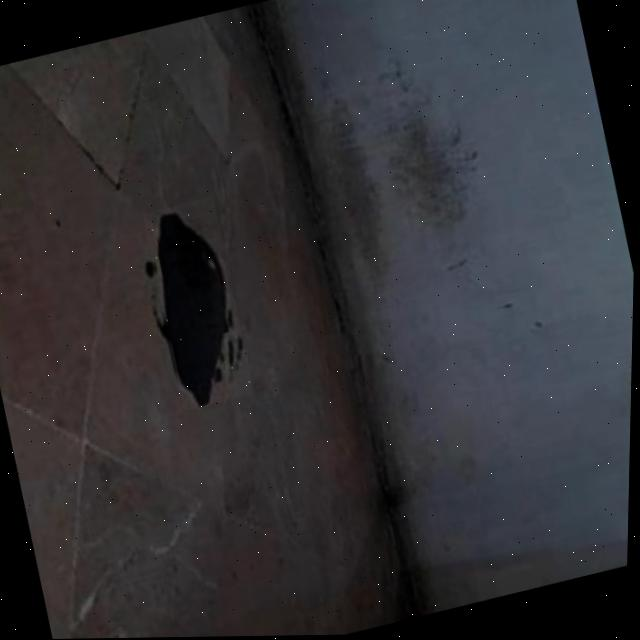spillage: (158, 205, 244, 406)
